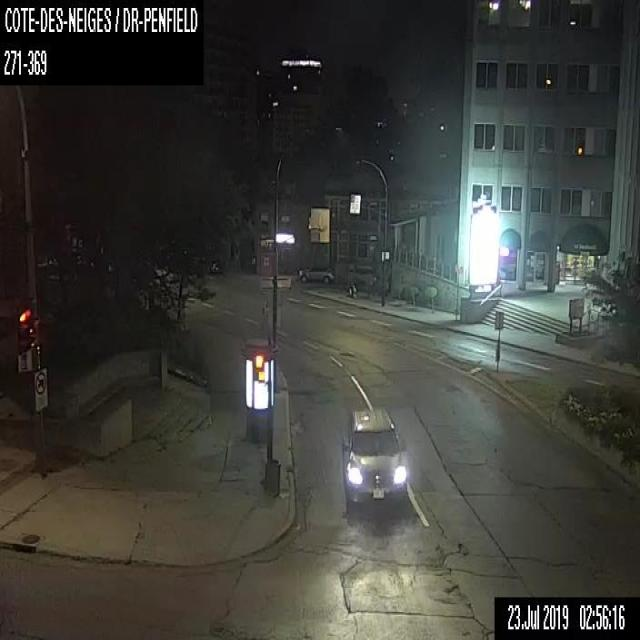vehicle: (340, 405, 407, 511), (297, 262, 334, 282)
